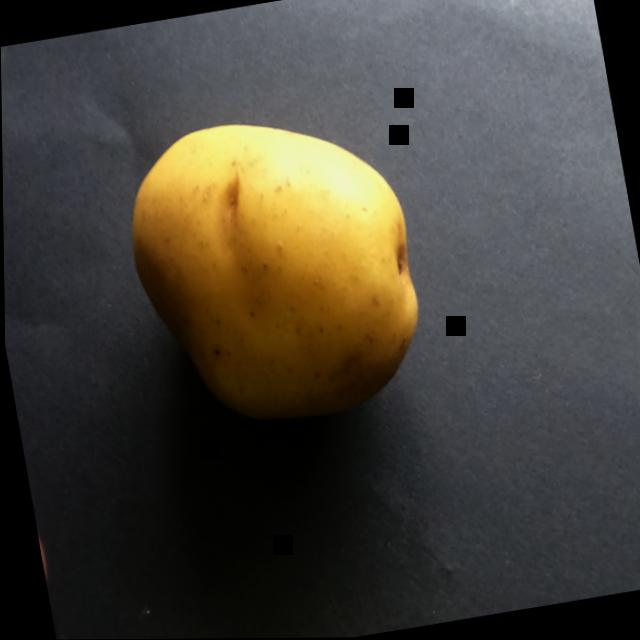Potato: (81, 59, 475, 485)
